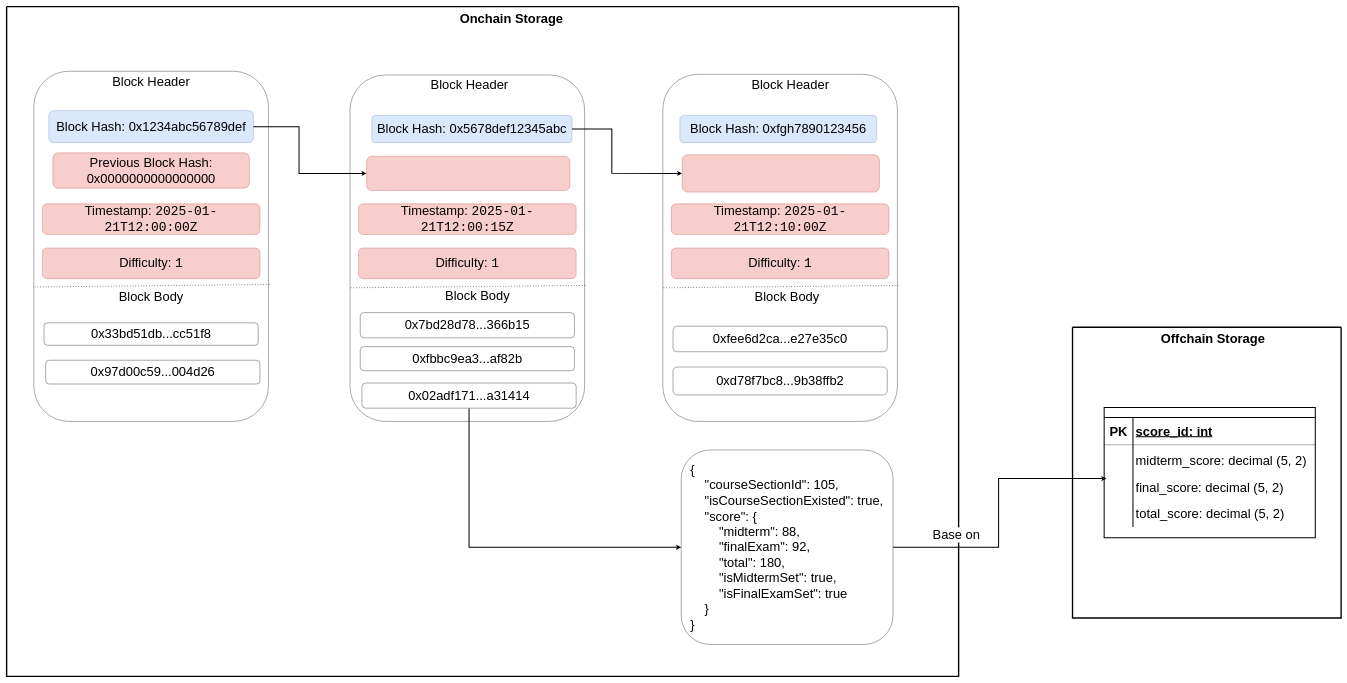
The diagram is 1347 pixels wide and 683 high, and some of its shapes have lost their labels. The shapes that lost their labels are listed below. From the top down, each one's box as (x1, y1, x2, y2) in pixels, then its label:
(366, 156, 570, 191): Previous Block Hash: 0x1234abc56789def
(682, 154, 879, 192): Previous Block Hash: 0xdef4567890123
(1103, 407, 1316, 538): scores
